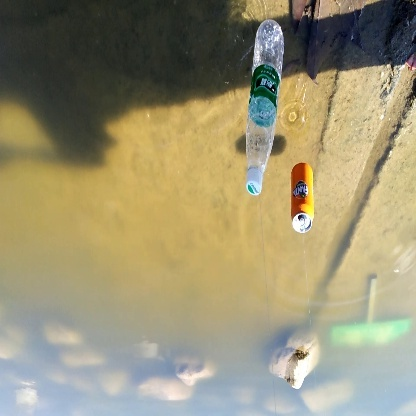bottle: (242, 20, 284, 197), (289, 161, 317, 237)
